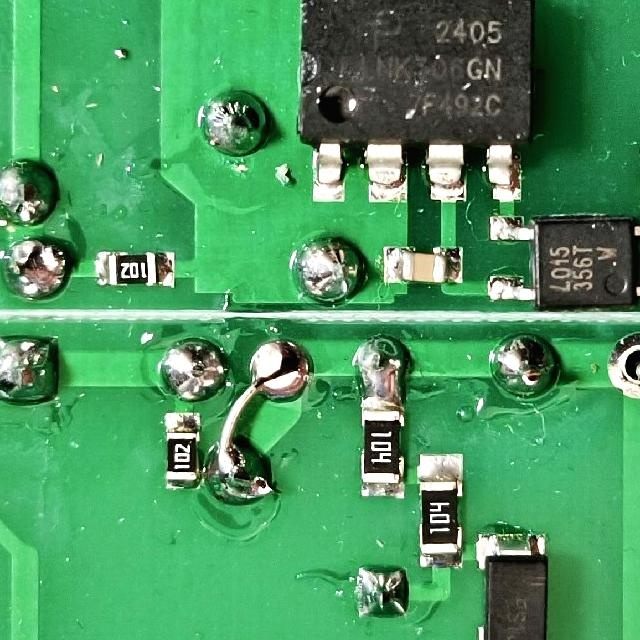chip-capacitor: (379, 244, 465, 288)
chip-resistor: (414, 449, 466, 572), (357, 395, 407, 501), (160, 408, 203, 492), (91, 250, 177, 289)
diode: (472, 523, 552, 640)
ic: (293, 0, 539, 206), (483, 211, 640, 309)
